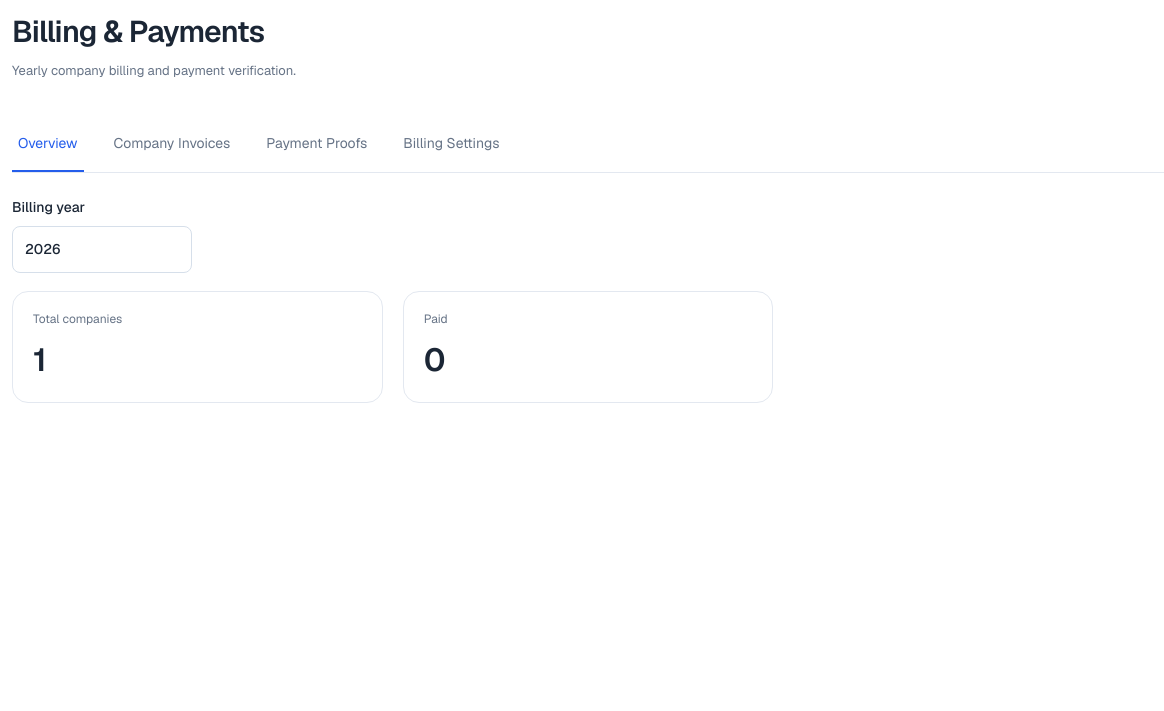
Test: shows all Super Admin tabs and refreshes after approval
Expected: the heading "Total companies" is shown, [33, 310, 122, 326]
Click the tab "Company Invoices" at (172, 144), box [108, 116, 236, 172]
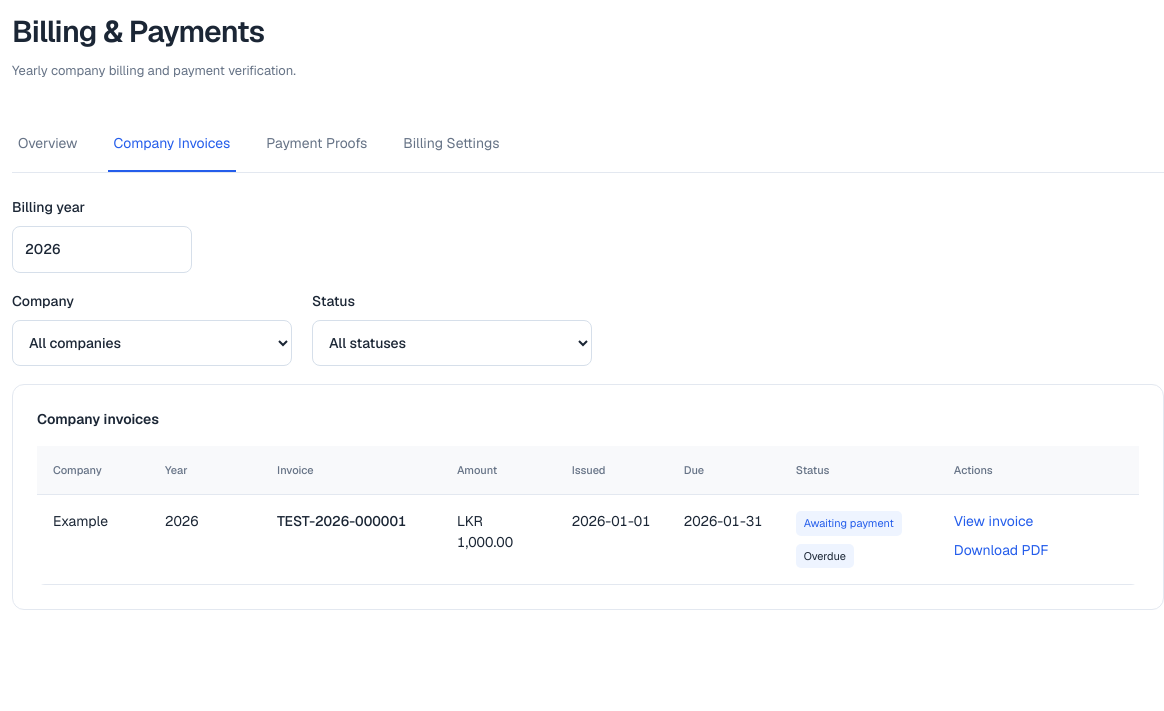
Expected: the column heading "TEST-2026-000001" is shown, [261, 494, 441, 584]
Click the tab "Payment Proofs" at (317, 144), box [260, 116, 373, 172]
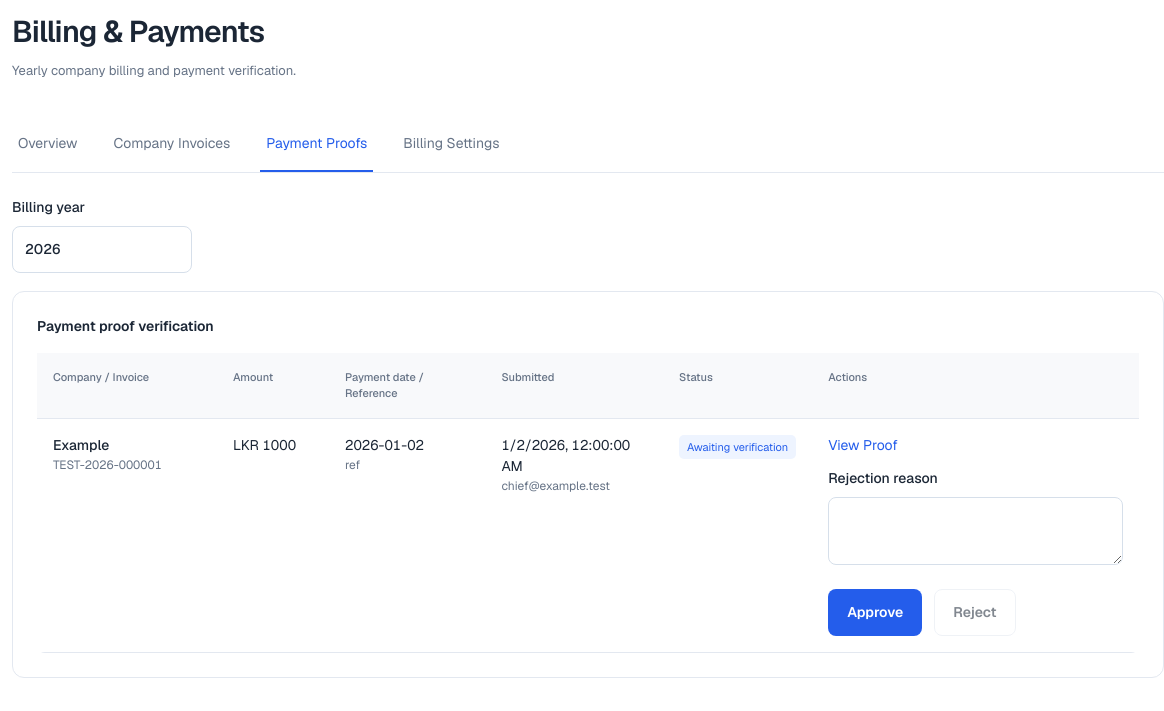
Click the button "Approve" at (875, 612), box [828, 588, 922, 636]
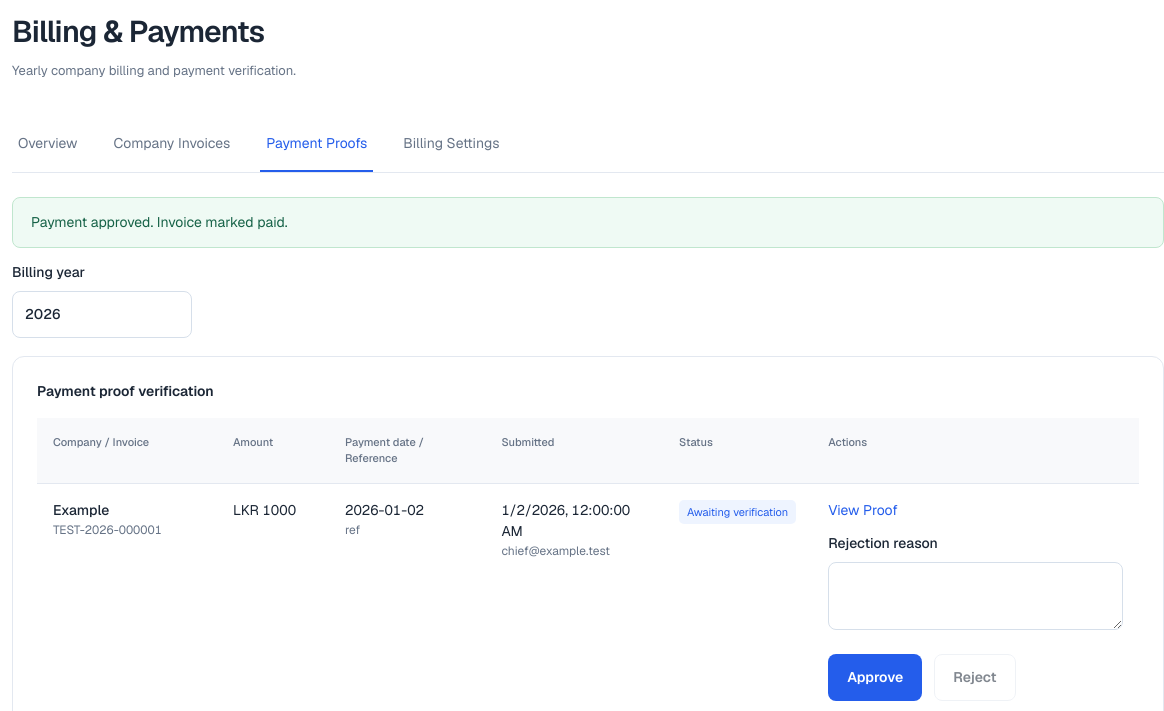
Expected: the text "Payment approved. Invoice marked paid." is shown, [12, 196, 1163, 248]
Click the tab "Billing Settings" at (451, 144), box [397, 116, 506, 172]
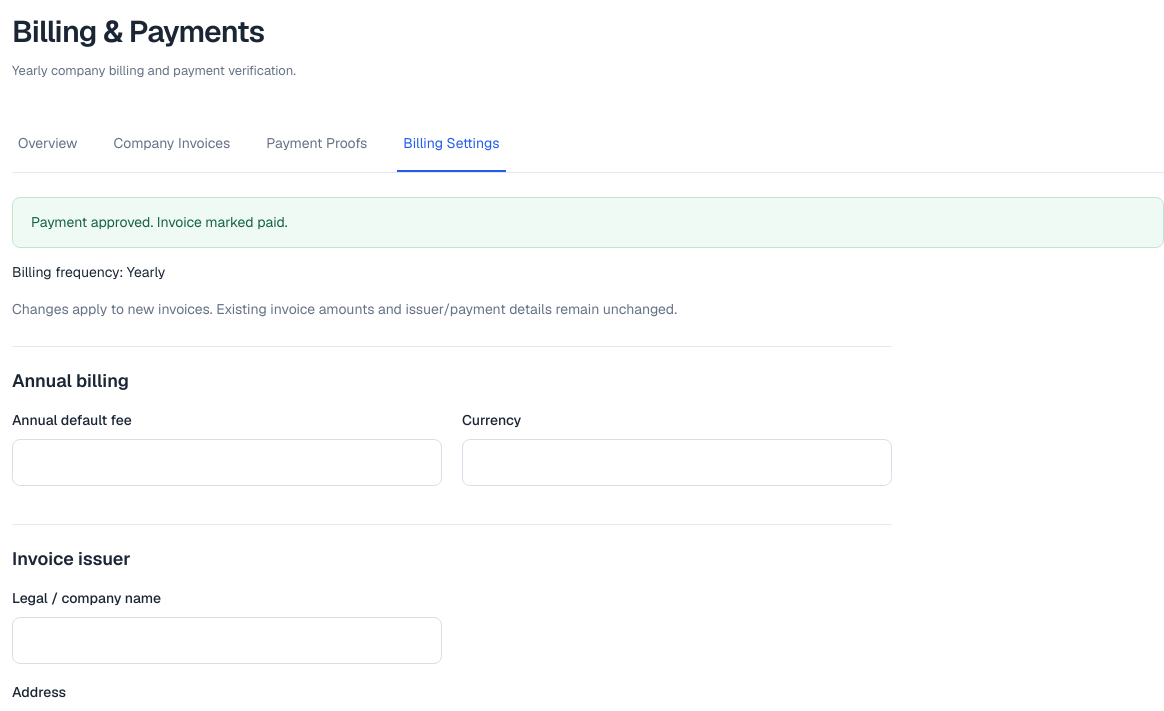
Expected: the text "Billing frequency: Yearly" is shown, [12, 262, 165, 280]
